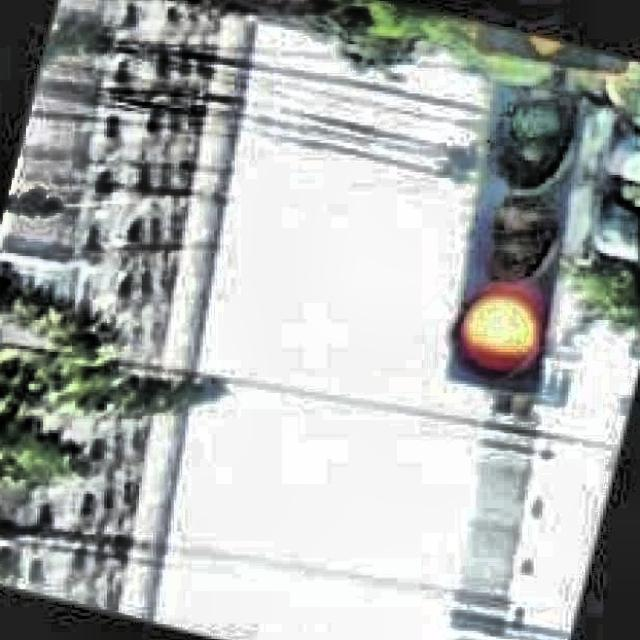red: (442, 85, 594, 382)
